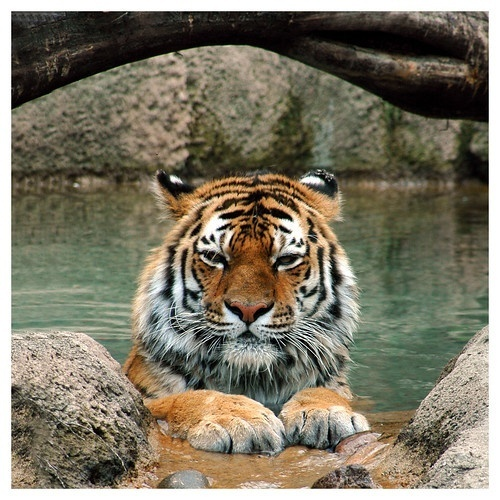tigre: (119, 164, 388, 458)
